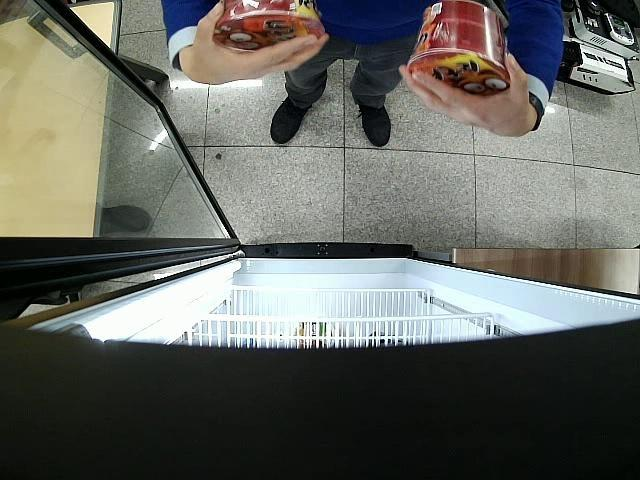05_nuguri_L: (408, 0, 510, 96), (214, 0, 328, 52)
